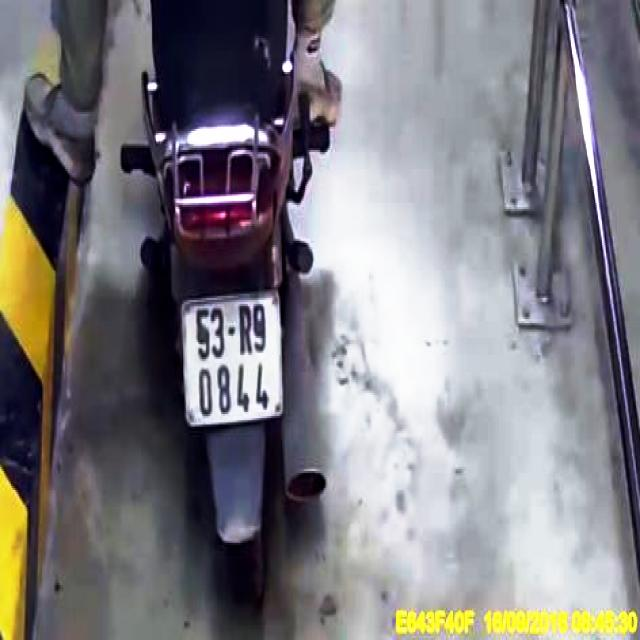license_plate: (182, 296, 283, 430)
